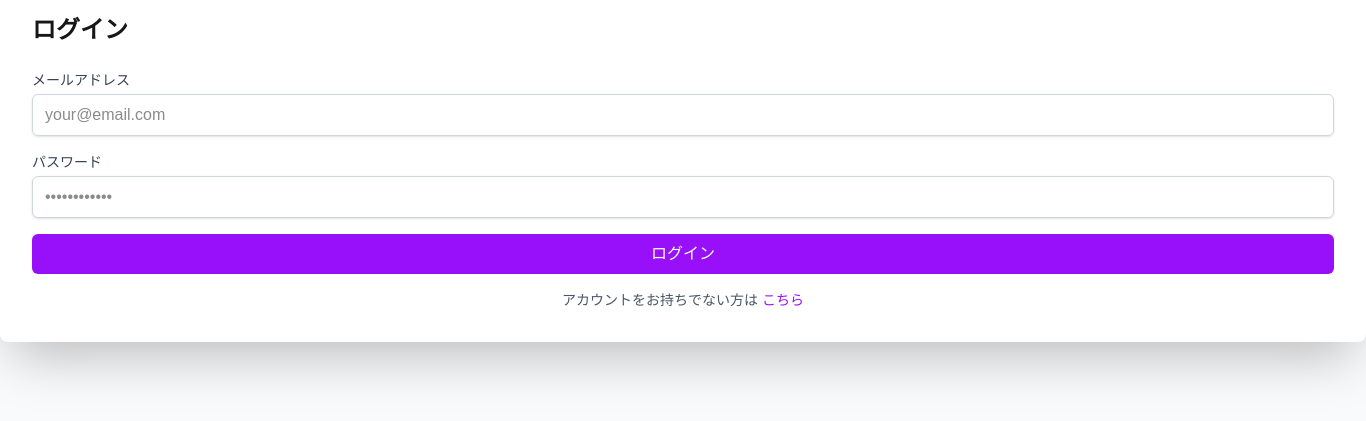
LoginForm › バリデーションエラー › パスワードが12文字未満の場合エラーが表示される
In the field labelled "メールアドレス": (683, 115) x1=32 y1=94 x2=1334 y2=136, type "test@example.com"
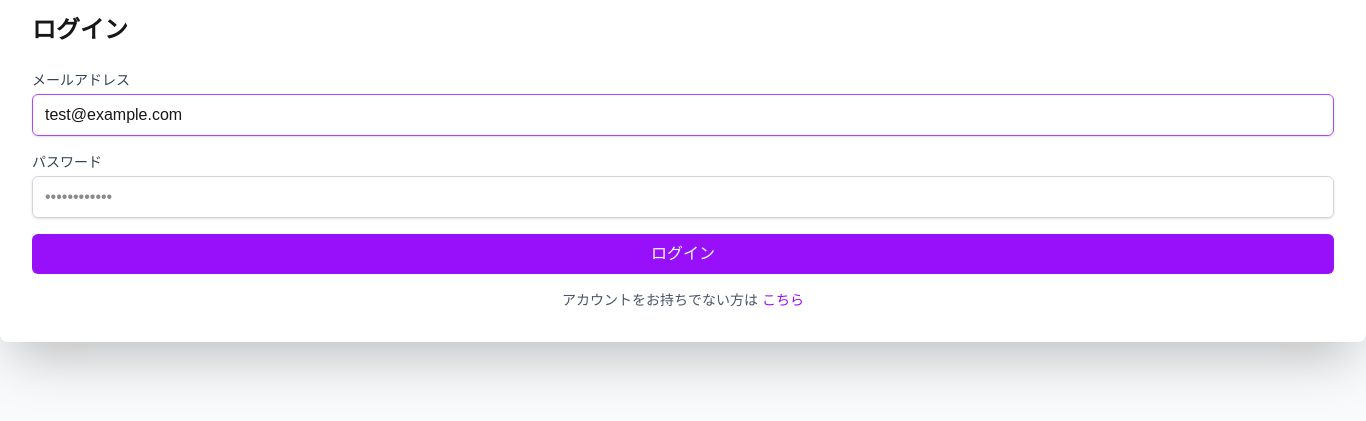
In the password field labelled "パスワード": (683, 197) x1=32 y1=176 x2=1334 y2=218, type "short"
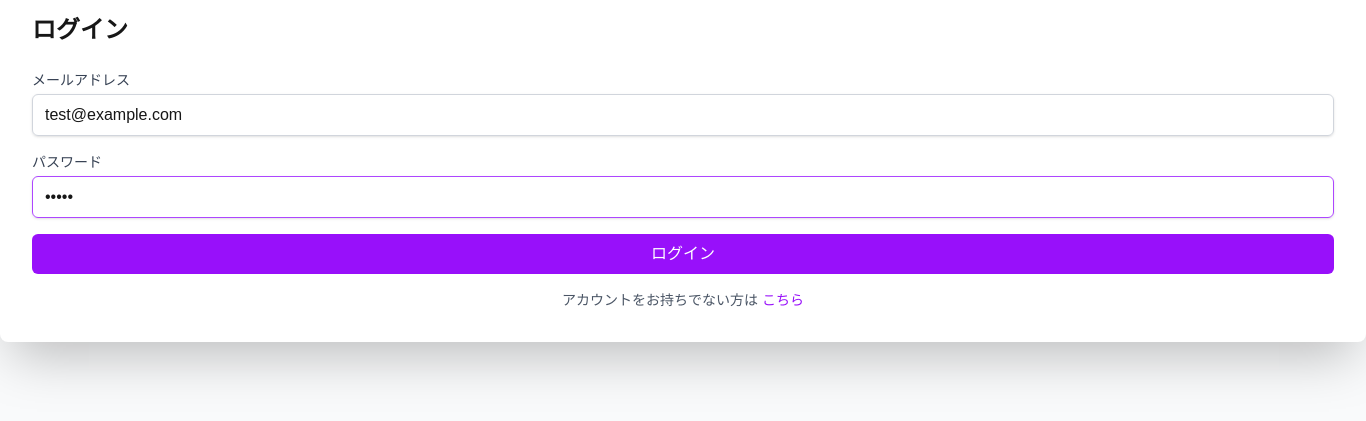
Click the button "ログイン": (683, 254) x1=32 y1=234 x2=1334 y2=274
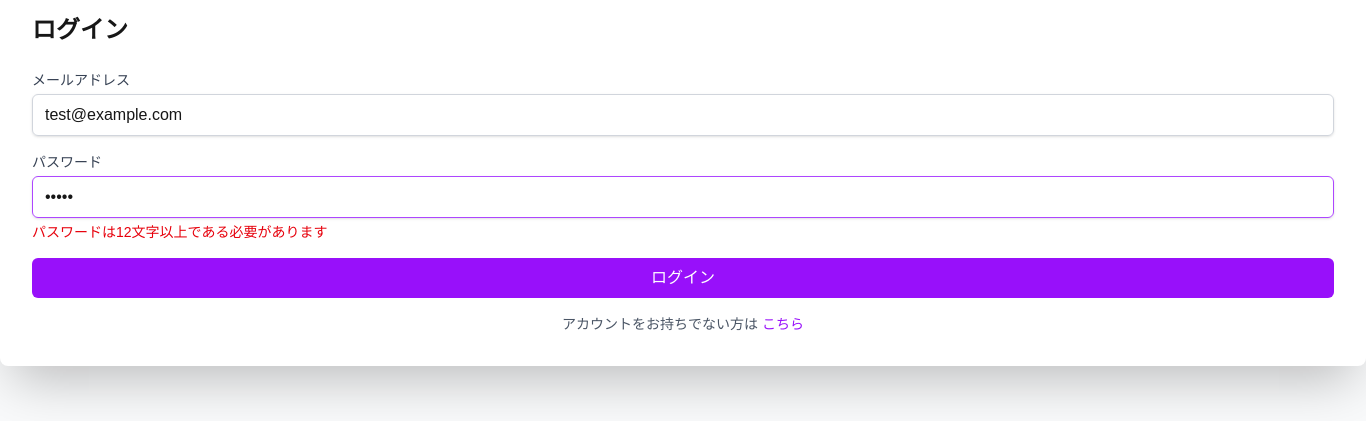
expect the text "パスワードは12文字以上である必要があります" is shown: met, box x1=32 y1=224 x2=327 y2=240
